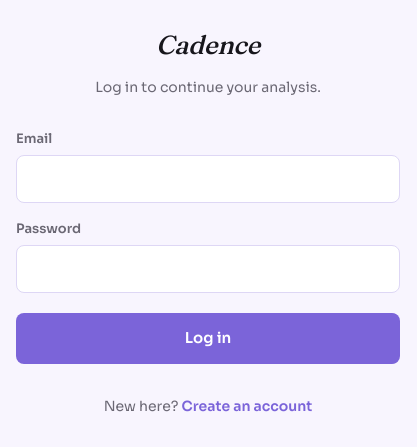
Scenario: LoginPage › falls back to a generic message for a non-API failure
Type "ada@example.com" into the field labelled "Email" at {"x": 208, "y": 179}, box [16,155,400,203]
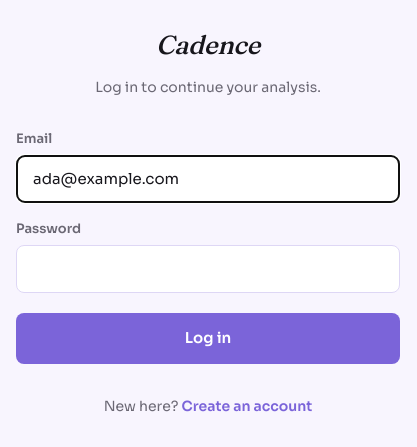
Type "secret-pass" into the password field labelled "Password" at {"x": 208, "y": 269}, box [16,245,400,293]
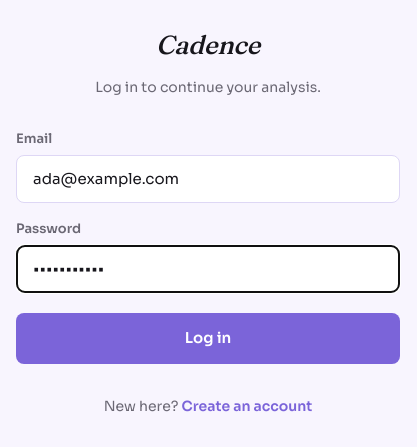
Click the button "Log in" at {"x": 208, "y": 339}, box [16,313,400,364]
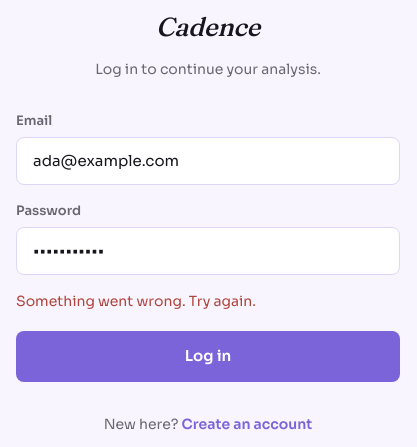
Now the text "Something went wrong. Try again." is shown, box [16,292,256,310]
